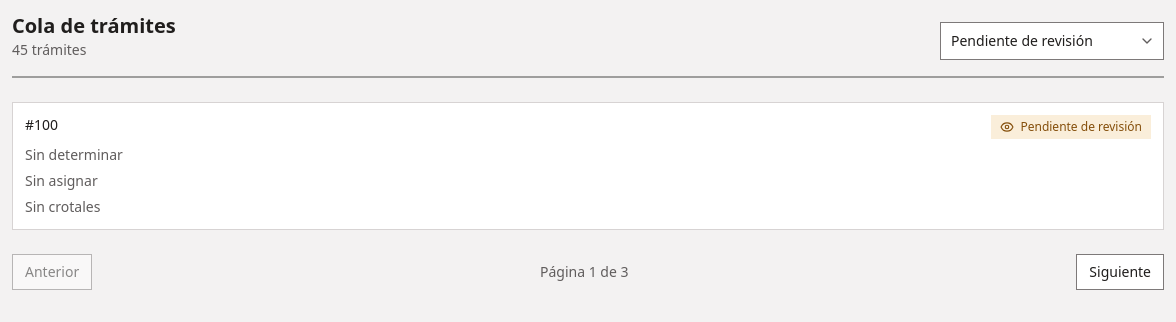
Test: TramitesPage: errores visibles › si falla una página intermedia, la paginación sigue ahí para salir de ella (M3)
This screenshot has width=1176, height=322.
Check: the button "#100" is shown, box [21,115,62,135]
Click the button "Siguiente" at (1120,272), box [1076,254,1164,290]
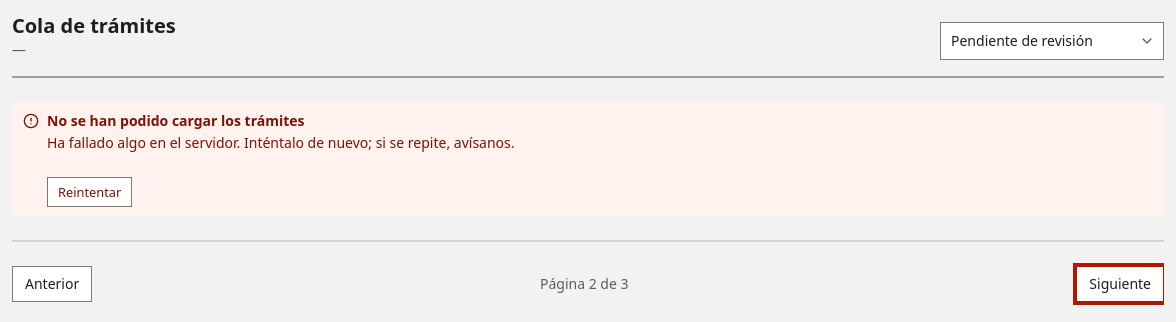
Check: the text "No se han podido cargar los trámites" is shown, box [47,111,304,130]
Check: the text "Página 2 de 3" is shown, box [540,274,628,294]
Click the button "Anterior" at (52,284), box [12,266,92,302]
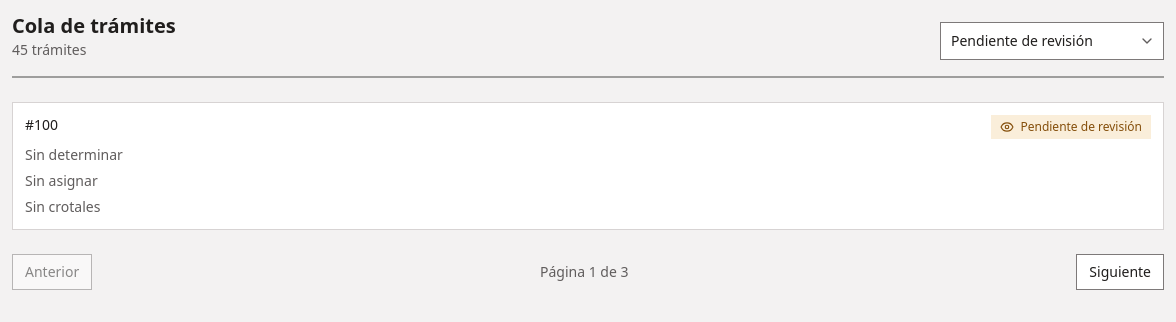
Check: the button "#100" is shown, box [21,115,62,135]
Check: the text "No se han podido cargar los trámites" is gone
